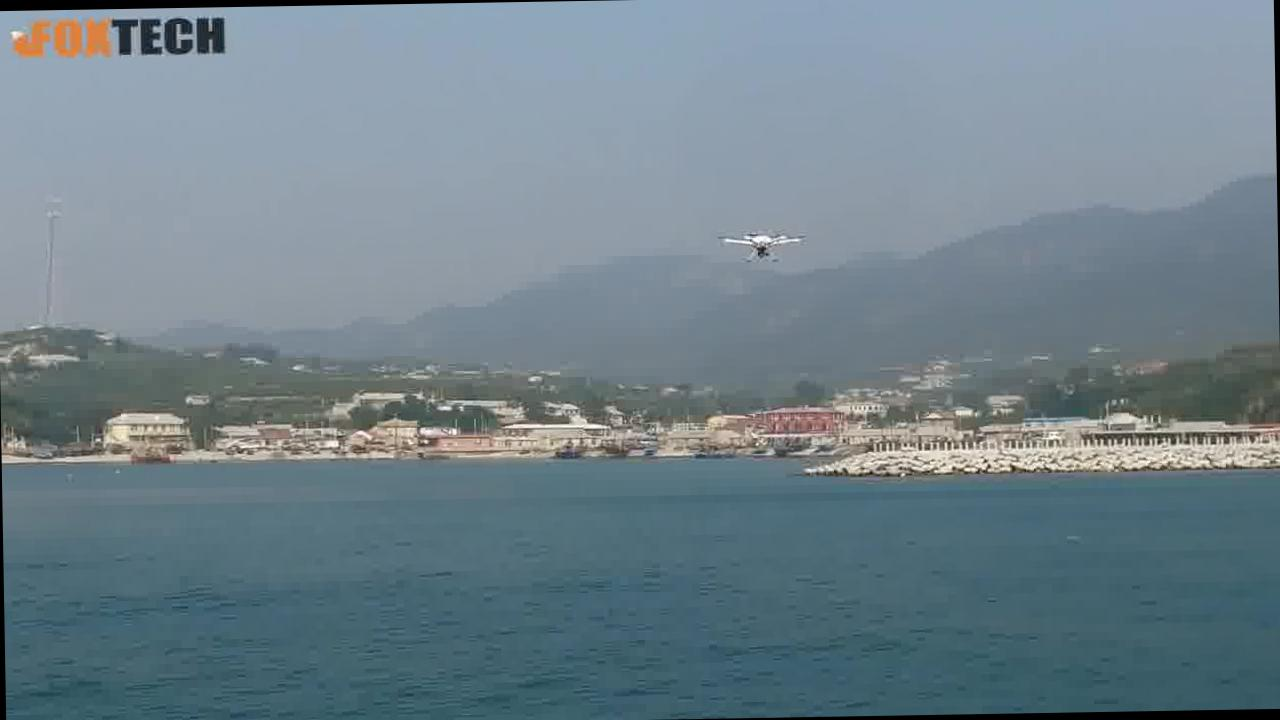drone: (708, 205, 812, 273)
